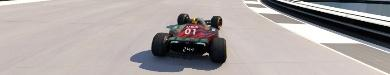Car: (150, 13, 226, 62)
Solid White and black: (241, 0, 389, 74)
